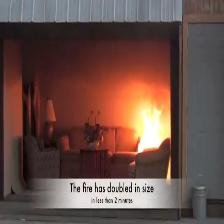fire: (138, 105, 163, 152)
